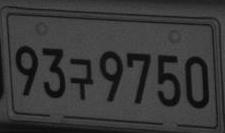0: (184, 54, 210, 109)
3: (42, 47, 66, 98)
5: (156, 54, 181, 107)
7: (125, 52, 151, 104)
9: (98, 49, 123, 102), (14, 44, 38, 96)
구: (68, 57, 92, 100)
